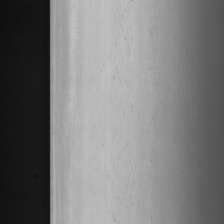silk_spot: (104, 5, 148, 223)
